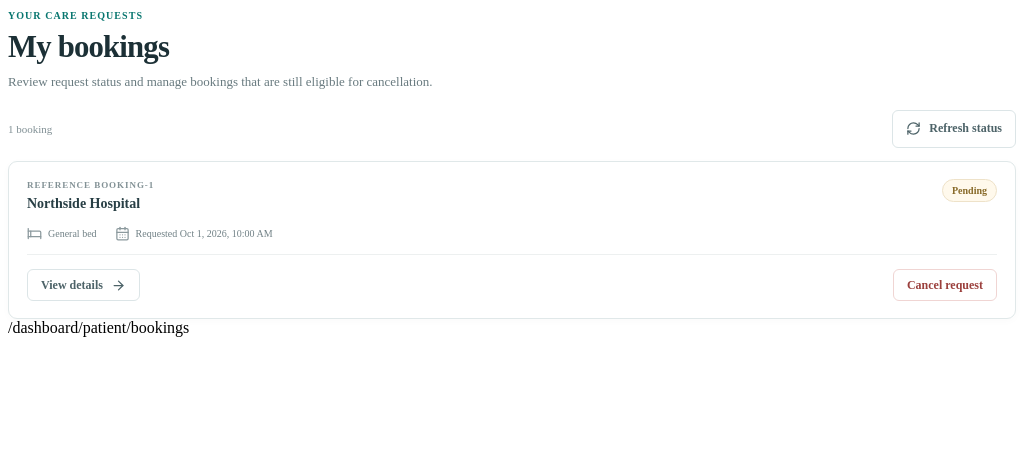
patient hospital discovery and bookings › loads patient bookings and requires confirmation before cancellation
Later steps or results of the test are not shown.
Click the button "Cancel request" at (945, 285), box [893,269,997,301]
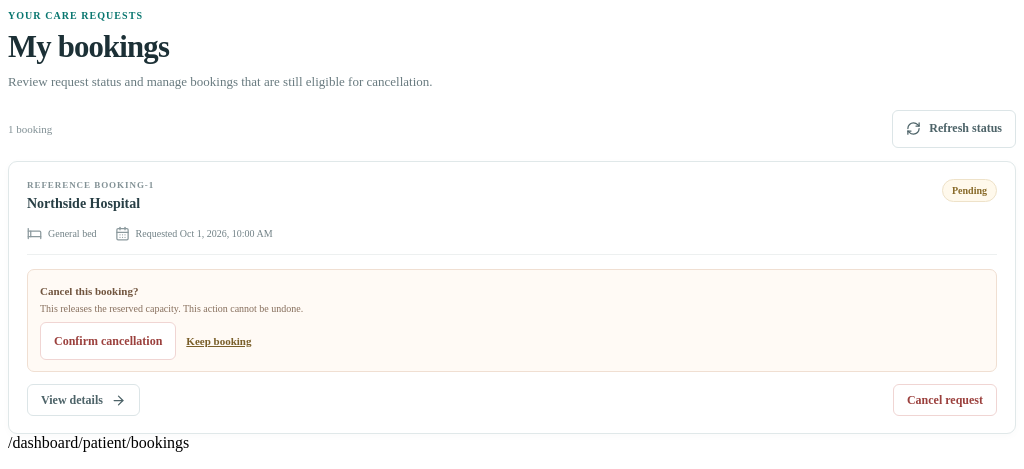
Expected: the text "Cancel this booking?" is shown, [40,285,138,297]
